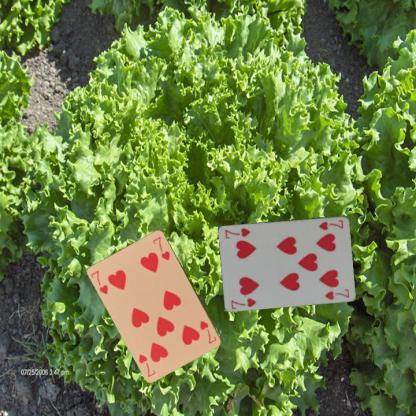7h: (88, 268, 110, 295), (198, 318, 218, 345), (228, 296, 257, 310), (317, 217, 345, 231)
